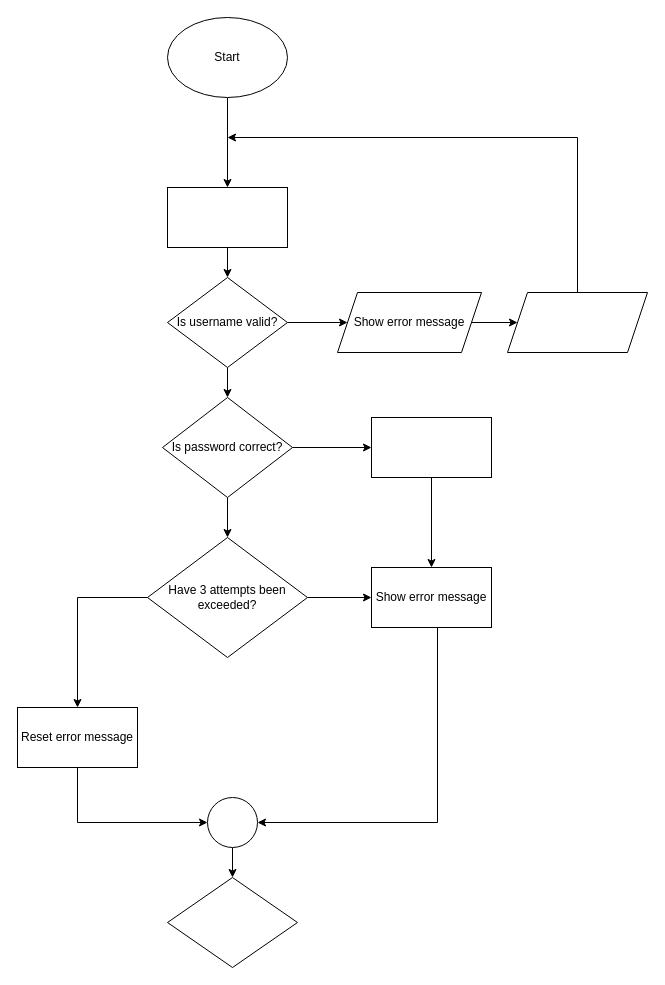
This 665x985 diagram has some shape labels left out. Each missing label, with the box of its shape:
End: (166, 876, 298, 968)
Enter username and password: (166, 186, 288, 248)
Increment attempts: (506, 292, 648, 352)
Lock account: (370, 416, 492, 478)
